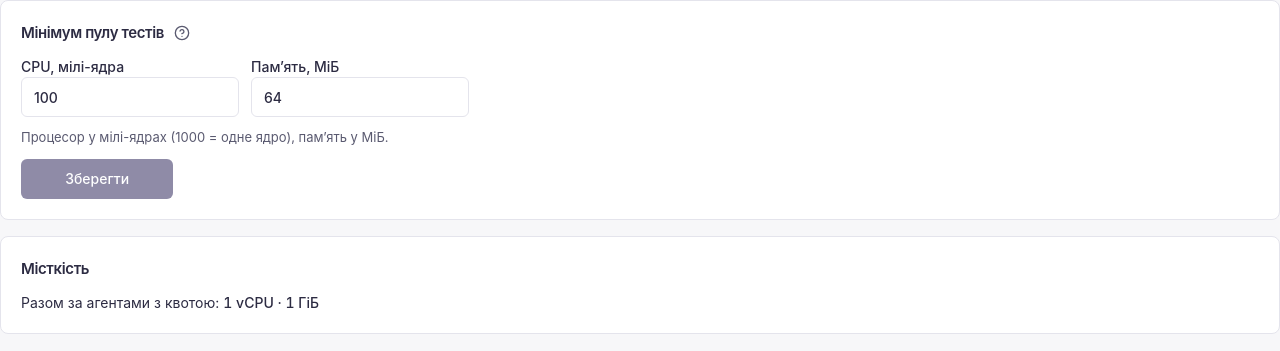
Test: test pool settings Save › keeps a newer amount while an earlier save is pending and acknowledged
Replace the text in the field showing "100" with "200" at [130, 97], box [21,77,239,117]
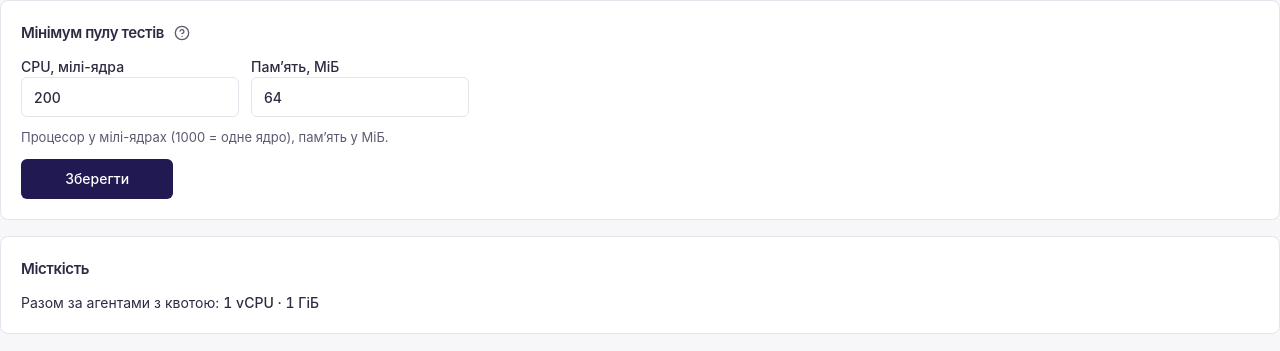
Click the button "Зберегти".
click(97, 179)  # box [21,159,173,199]
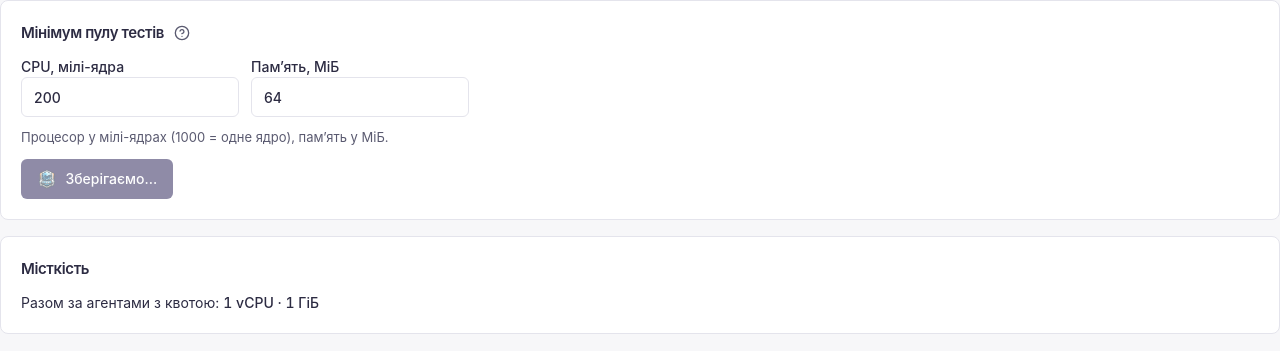
Replace the text in the field showing "100" with "300" at [130, 97], box [21,77,239,117]
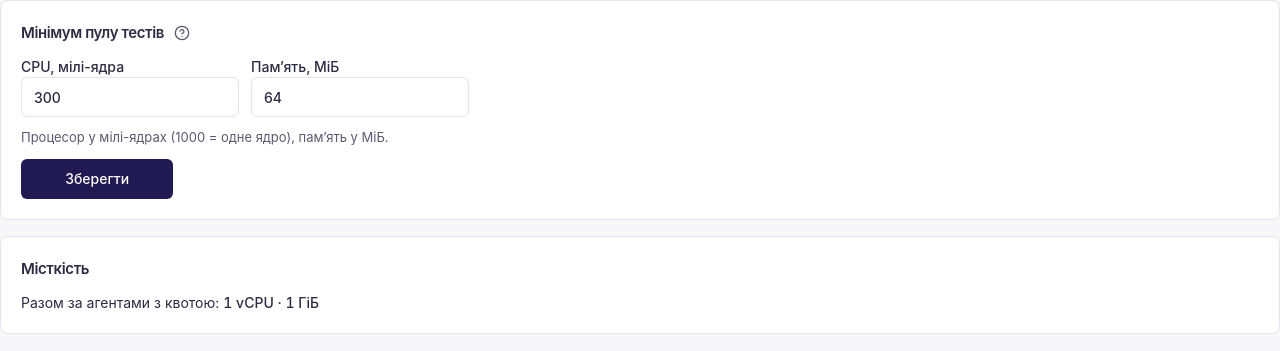
Expected: the button "Зберегти" is enabled, [21,159,173,199]
